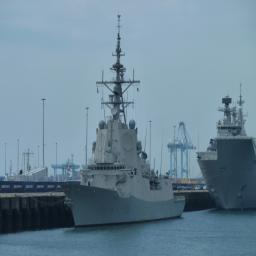Fragata: (61, 2, 191, 234)
